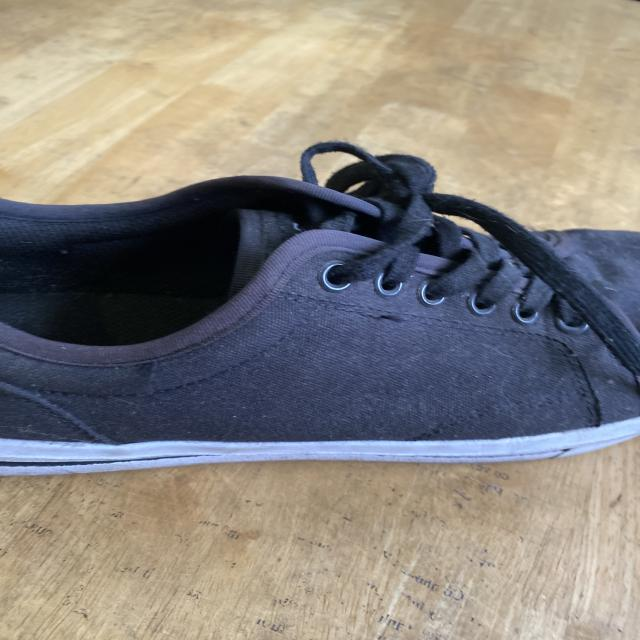broken: (366, 302, 421, 337), (123, 355, 182, 384)
